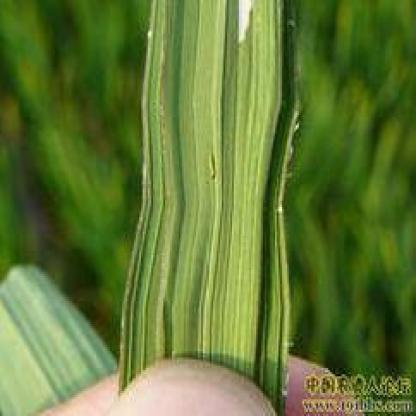leaf-folder: (201, 134, 228, 198)
